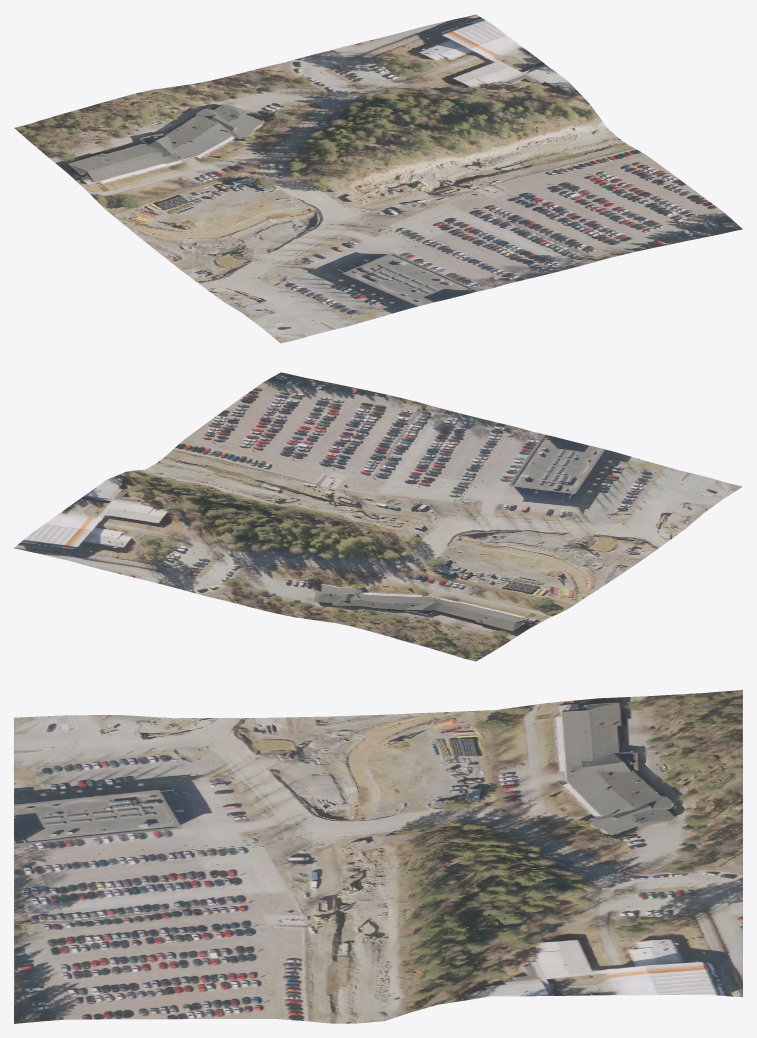
File: CM_Terrain_24490663_6821841.fbx
3 views of the same model, one above another, from view 1: azimuth 30°, elevation 25°; view 2: azimuth 150°, elevation 25°; view 3: azimuth 270°, elevation 25° (orthographic). The views are drawn at different scales.
Parts seen in each view (by area): view 1: CM_Terrain_24490663_6821841_LOD0; view 2: CM_Terrain_24490663_6821841_LOD0; view 3: CM_Terrain_24490663_6821841_LOD0.
Part boxes in pixels (<box>): CM_Terrain_24490663_6821841_LOD0: <box>14,14,742,343</box>; CM_Terrain_24490663_6821841_LOD0: <box>14,372,742,661</box>; CM_Terrain_24490663_6821841_LOD0: <box>14,690,742,1023</box>.
Size of what is drawn, in the model's own units: 205 by 11.35 by 205.
